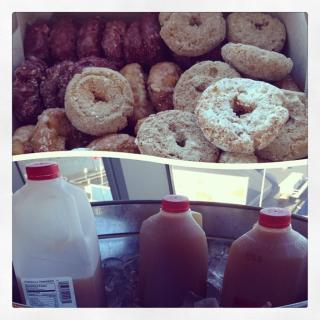Doughnut: (13, 14, 310, 163)
